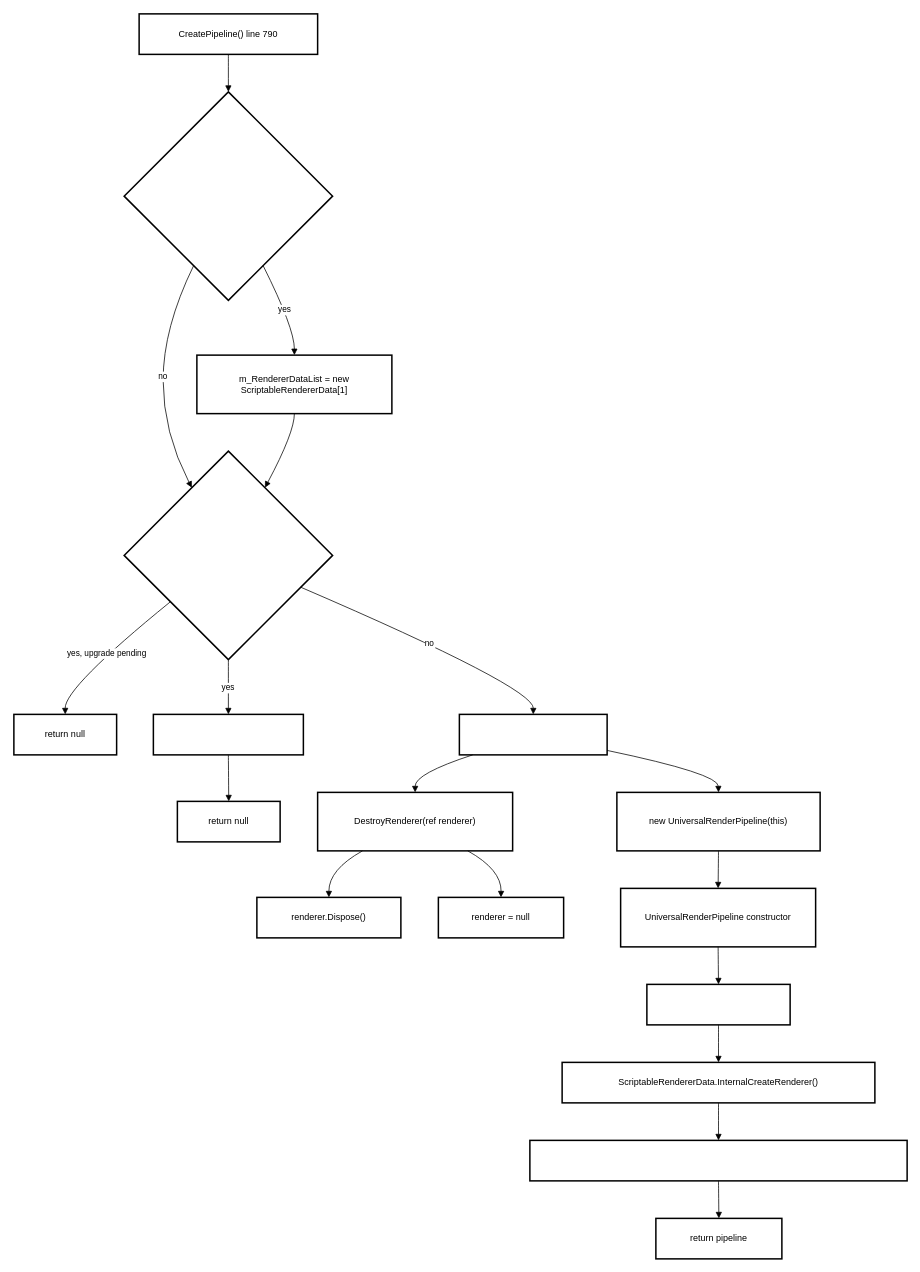
This 920x1272 diagram has some shape labels left out. The centre of each missing label's shape, as x and y in pixels:
"CreateRenderers()" goes at [718,1004].
"Debug.LogError(...)" goes at [228,734].
"default renderer data missing?" goes at [228,555].
"DestroyRenderers()" goes at [533,734].
"IGPUResidentRenderPipeline.ReinitializeGPUResidentDrawer()" goes at [718,1160].
"m_RendererDataList == null?" goes at [228,196].
